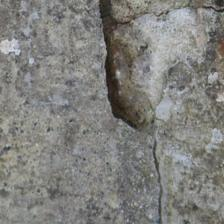Crack: (94, 4, 147, 135), (113, 1, 223, 32), (147, 139, 170, 224)
